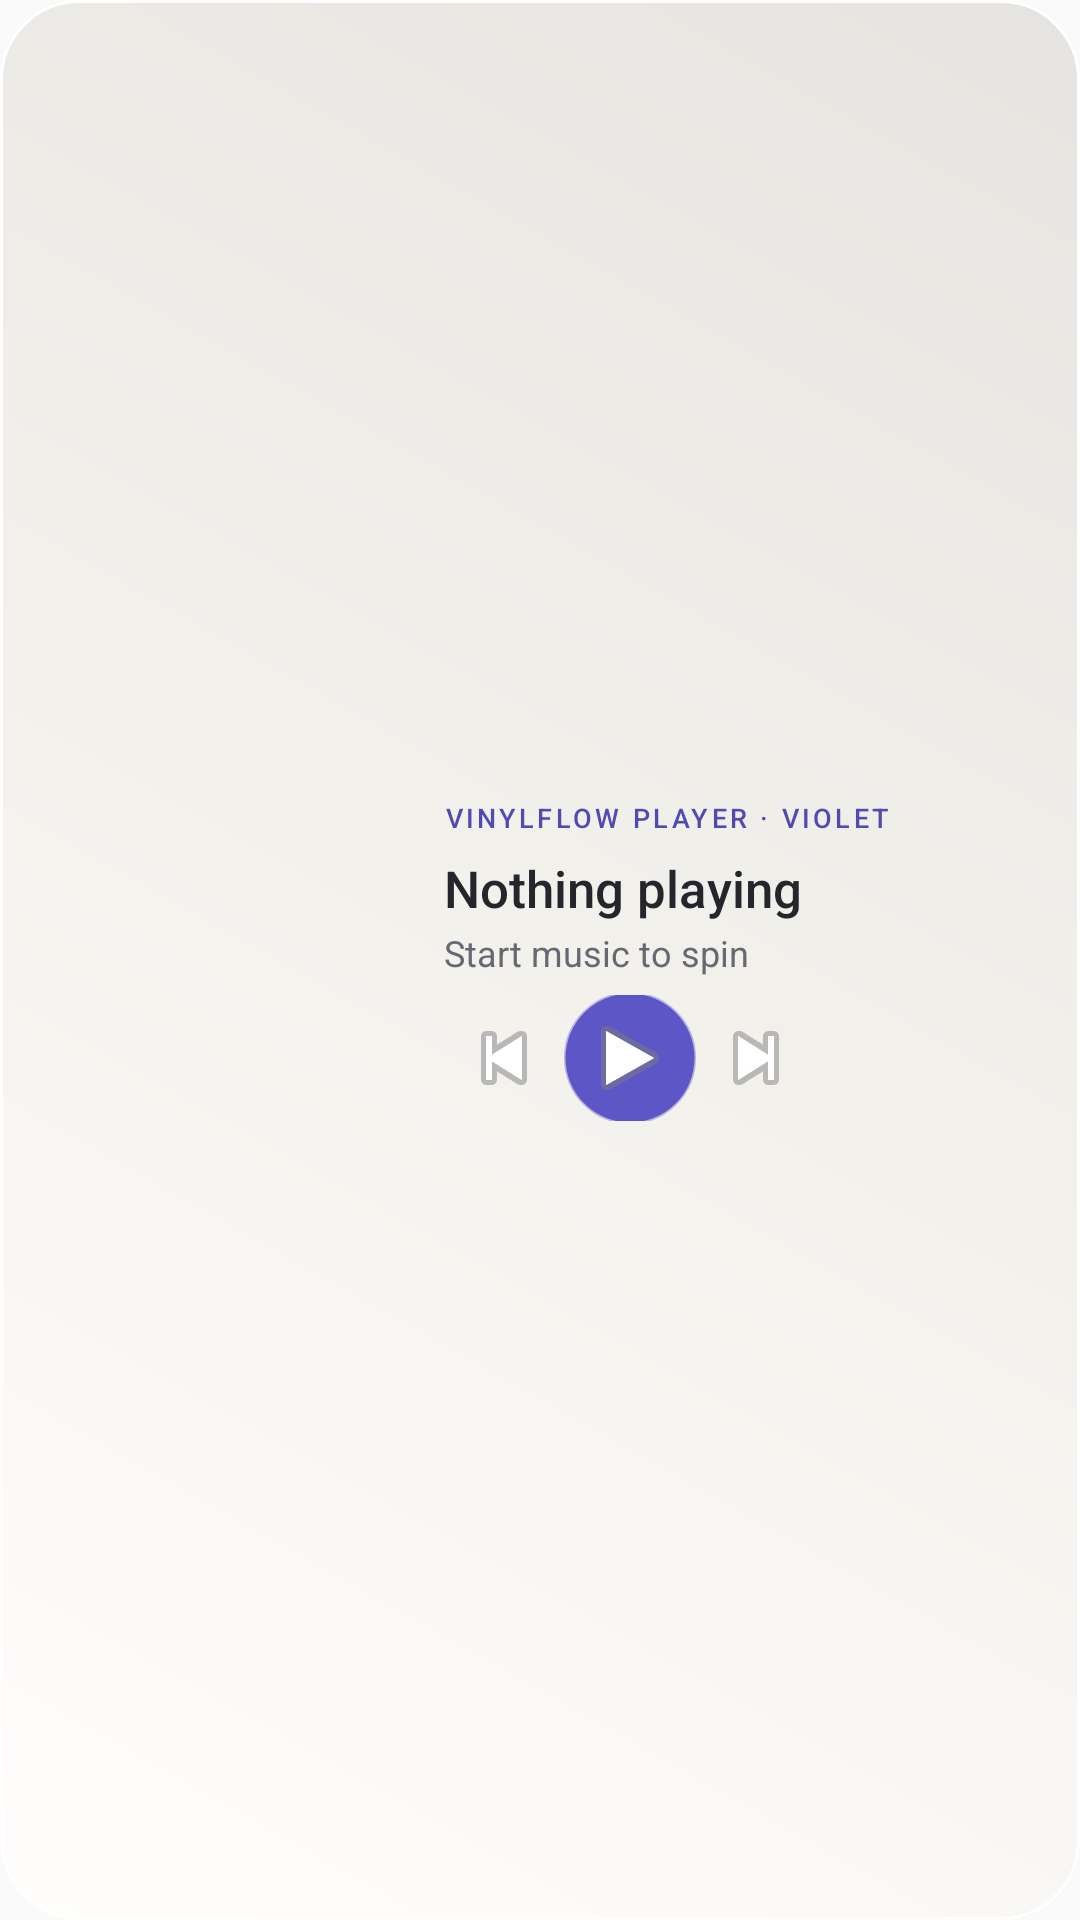

Locate icon controls on the screen. Image size 1080w x 1920h, boxes as (x1, y1, x2, y2).
Next track: (733, 1031, 779, 1085)
Play or pause: (564, 995, 696, 1121)
Previous track: (481, 1031, 527, 1085)
